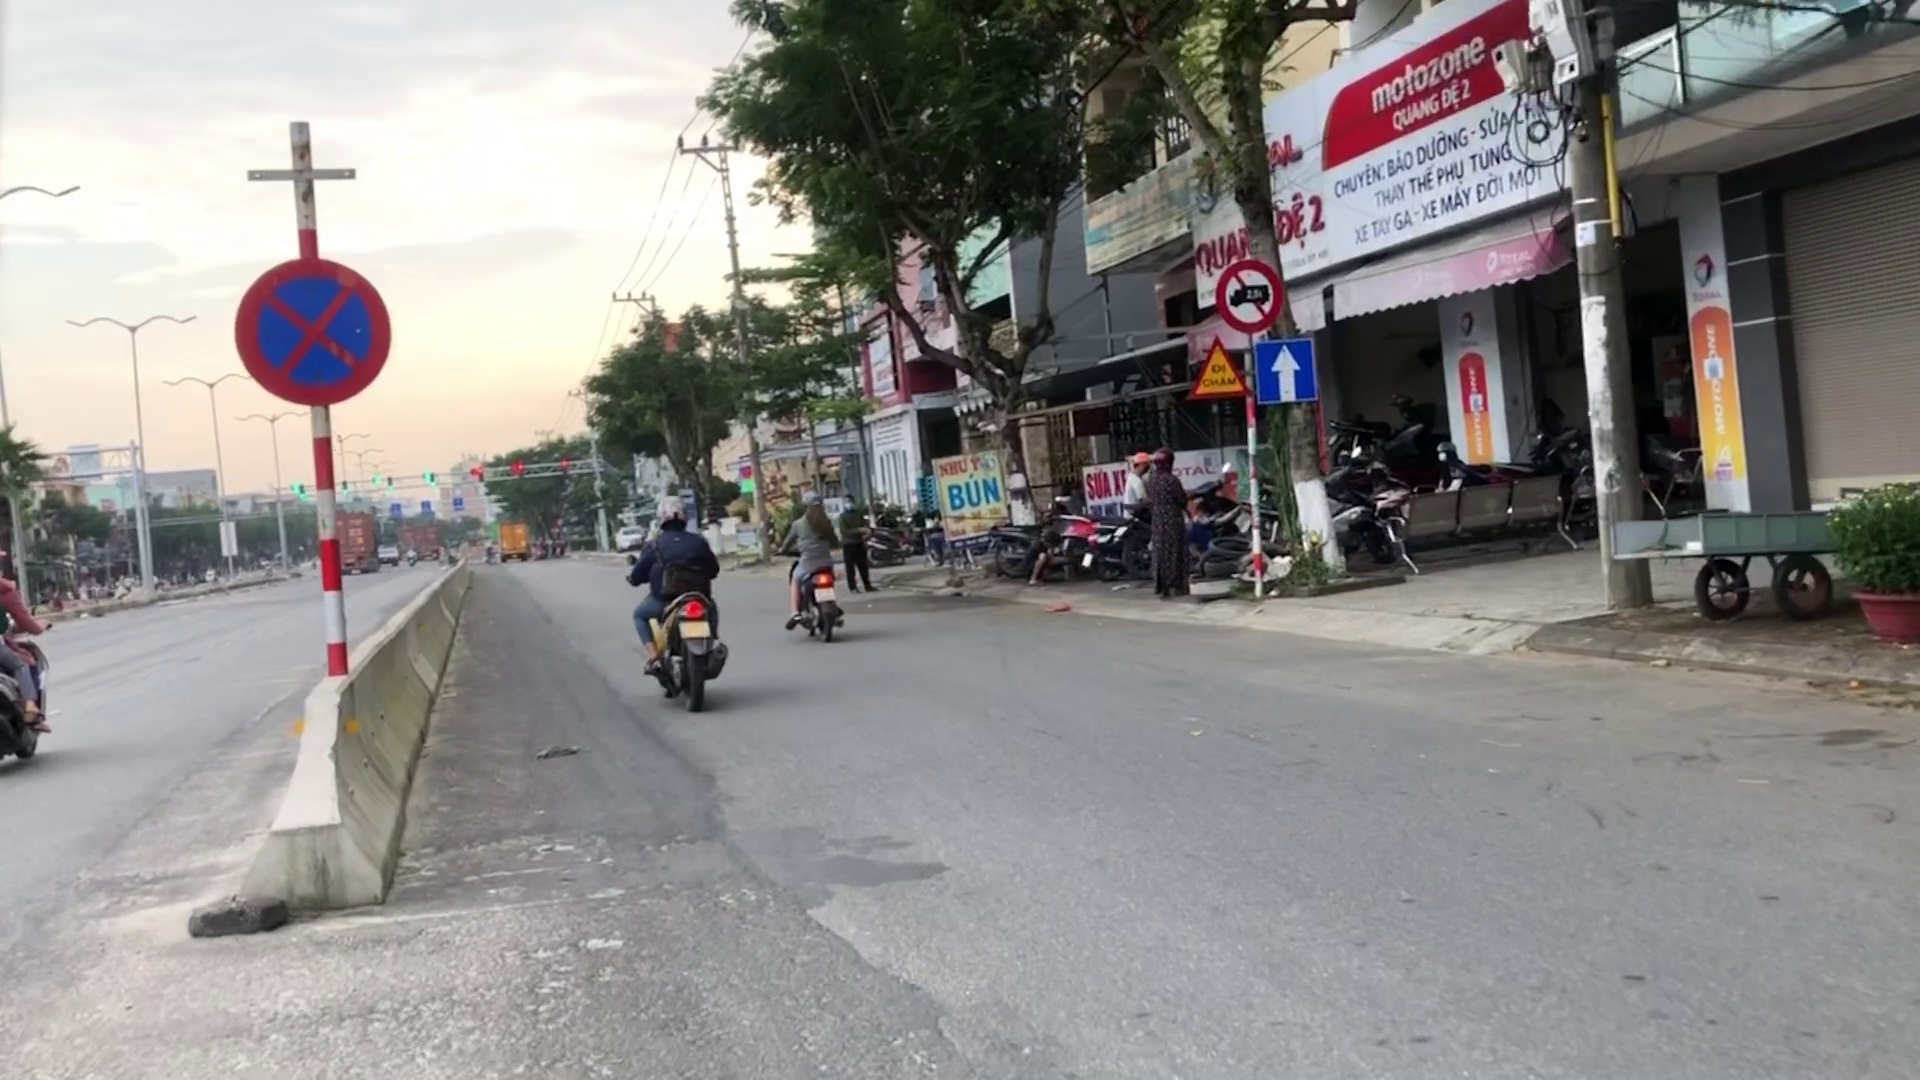Bien khac: (227, 258, 396, 407), (1182, 328, 1249, 397), (1251, 336, 1316, 406), (1217, 261, 1280, 331)
